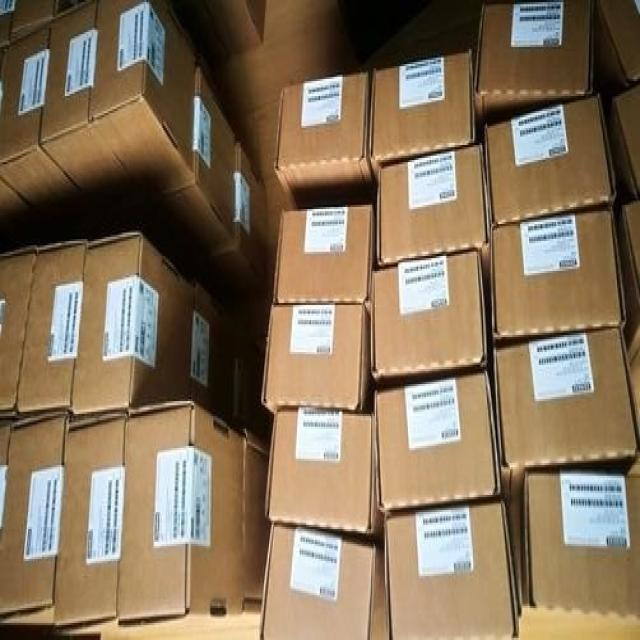box: (117, 399, 245, 638), (493, 329, 640, 501), (71, 233, 194, 416), (89, 0, 196, 203), (384, 503, 519, 640), (375, 369, 500, 512), (491, 209, 626, 339), (484, 94, 616, 222), (520, 474, 640, 614), (52, 414, 127, 636), (40, 0, 126, 188), (274, 73, 379, 220), (376, 145, 491, 279), (256, 523, 386, 640), (371, 252, 487, 382), (265, 407, 385, 531), (0, 412, 68, 625), (370, 49, 476, 183), (0, 23, 78, 203), (474, 0, 594, 113), (261, 303, 371, 416), (18, 239, 85, 416), (170, 70, 237, 247), (272, 207, 377, 314), (210, 143, 266, 299), (190, 284, 237, 429), (0, 245, 37, 416), (242, 427, 270, 621), (593, 0, 640, 109), (604, 77, 640, 203), (615, 196, 640, 363), (217, 0, 266, 55), (0, 175, 27, 207)
